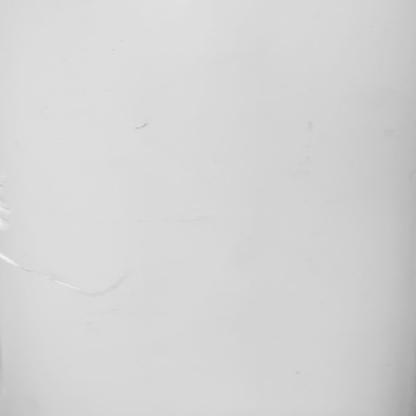sunshang: (1, 252, 88, 296), (1, 174, 15, 236)
